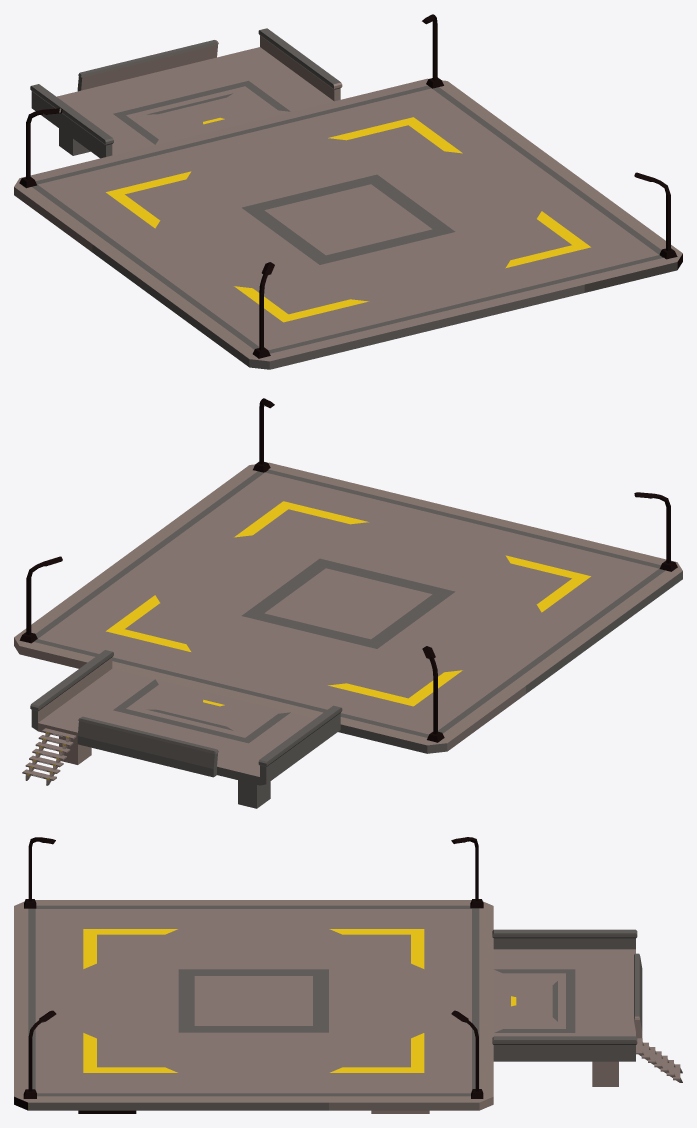
Rendered from Plataforma.fbx.
3 views of the same model, one above another, from view 1: azimuth 30°, elevation 25°; view 2: azimuth 150°, elevation 25°; view 3: azimuth 270°, elevation 25° (orthographic). The views are drawn at different scales.
Parts seen in each view (by area): view 1: Cube.001; view 2: Cube.001; view 3: Cube.001.
Boxes of the visible parts, x1,y1,x2,y2 form: Cube.001: (14, 14, 682, 369); Cube.001: (14, 398, 682, 808); Cube.001: (14, 837, 682, 1113).
Size of the model in its own units: 640 by 178 by 892.
1 material, 1 textured.
